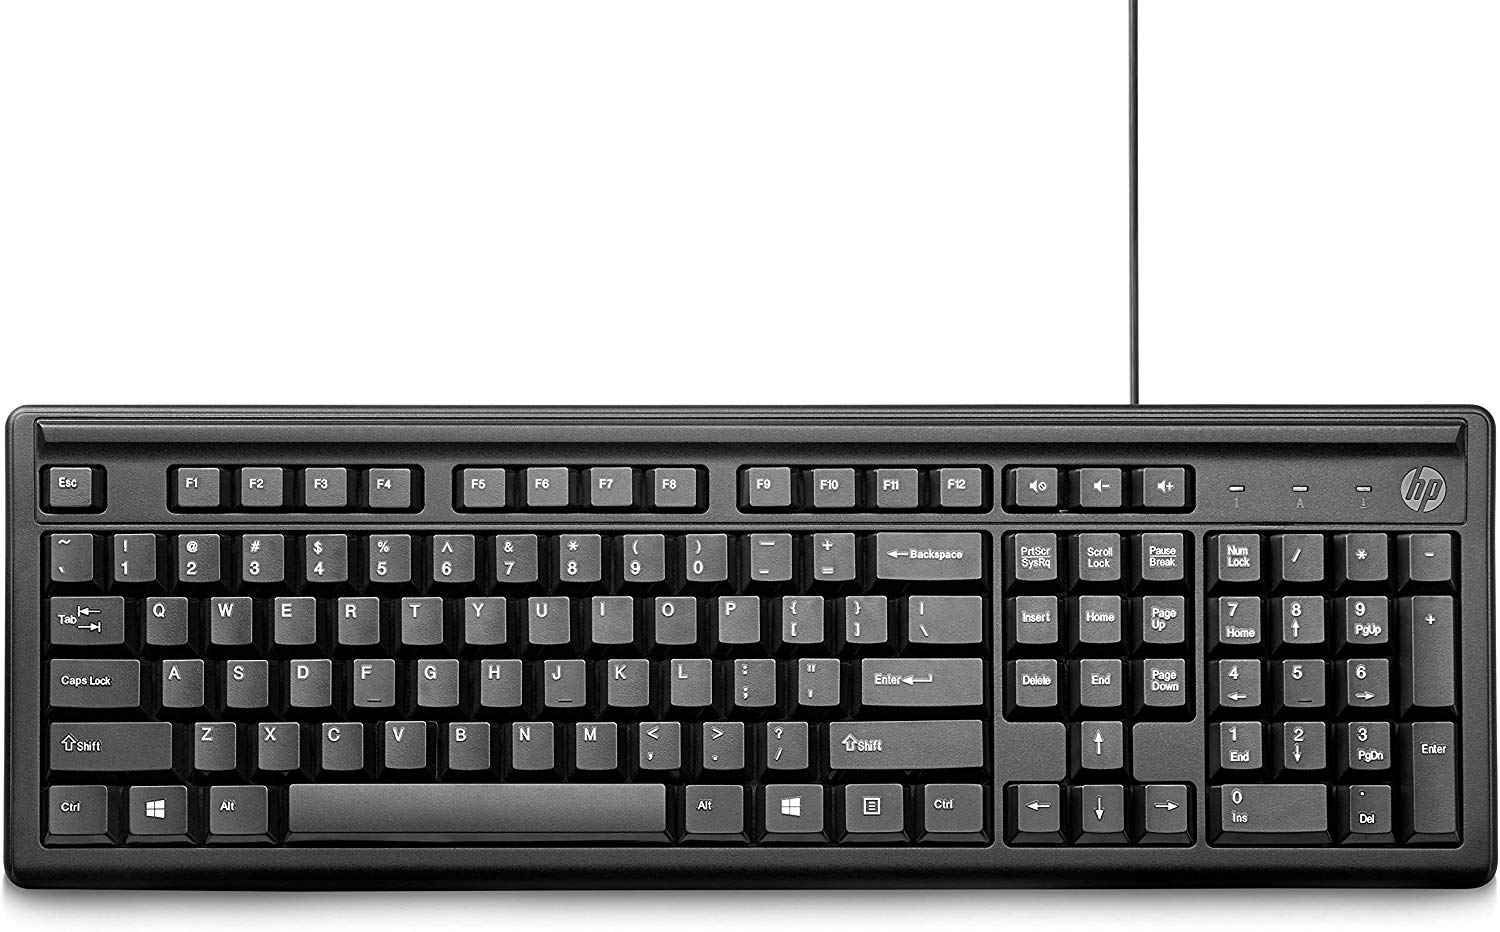Keyboard: (5, 382, 1500, 906)
